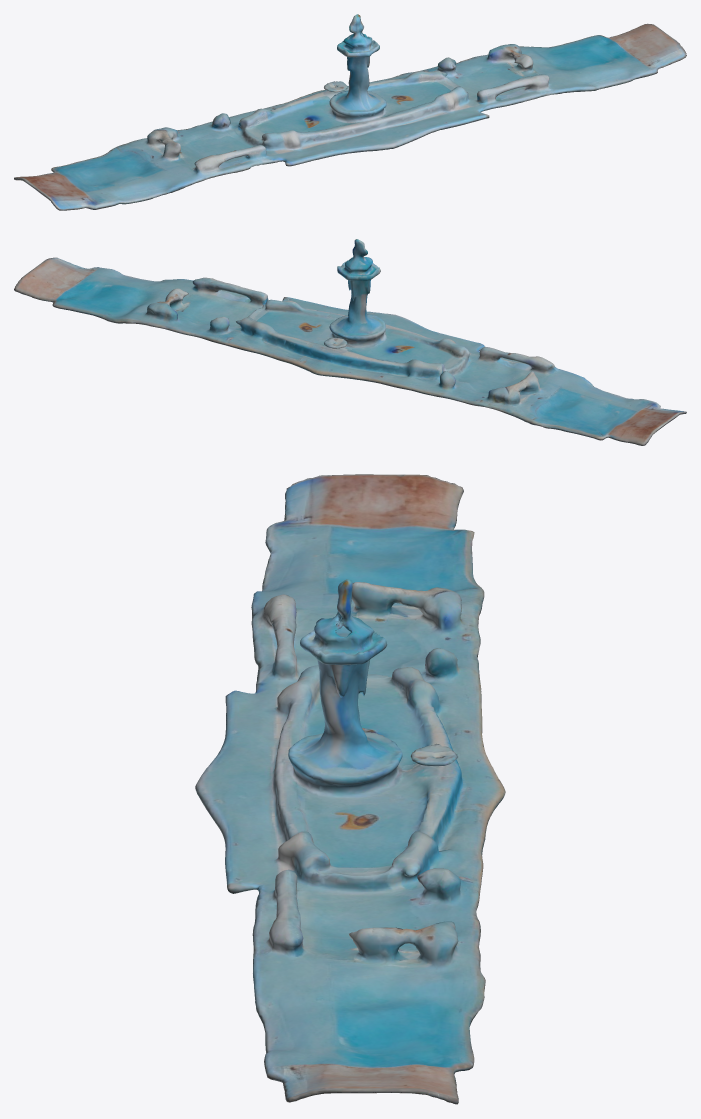
3 renders of one model, top to bottom at view 1: azimuth 30°, elevation 25°; view 2: azimuth 150°, elevation 25°; view 3: azimuth 270°, elevation 25°, orthographic. The views are drawn at different scales.
Parts seen in each view (by area): view 1: file1; view 2: file1; view 3: file1.
Part boxes in pixels (bbox=[...]): file1: bbox=[14, 14, 686, 210]; file1: bbox=[14, 239, 686, 445]; file1: bbox=[195, 474, 505, 1104].
Size of the model in its own units: 2 by 0.3463 by 0.4255.
Materials: 1 (1 with a texture image).
